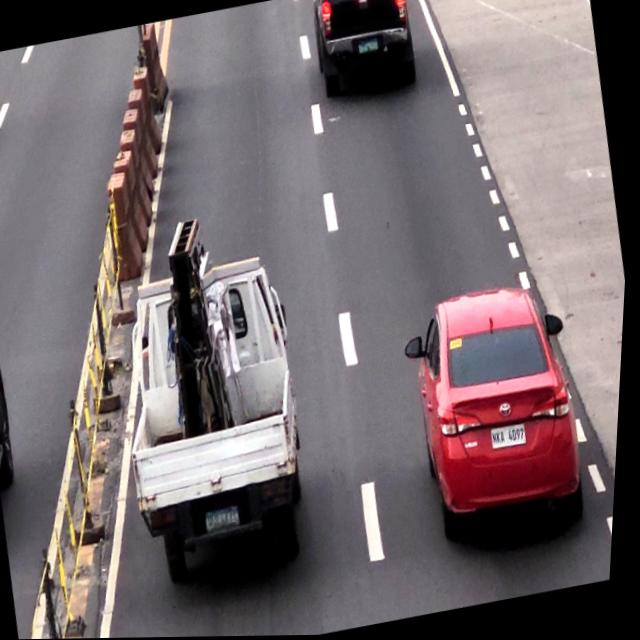Car: (406, 280, 599, 533), (305, 0, 419, 101)
License-Plate: (493, 423, 532, 451), (209, 505, 247, 532)
Truck: (103, 240, 335, 590)
